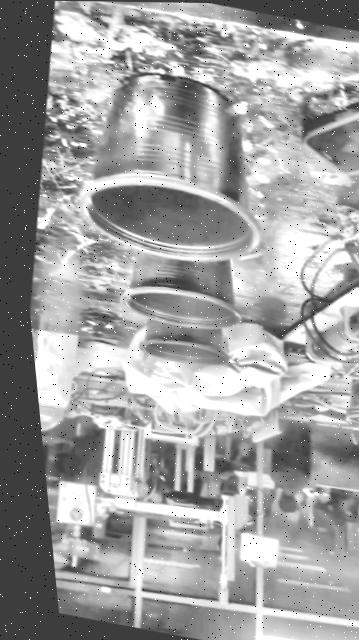pot: (78, 75, 257, 262), (120, 253, 239, 329), (139, 319, 227, 365)
